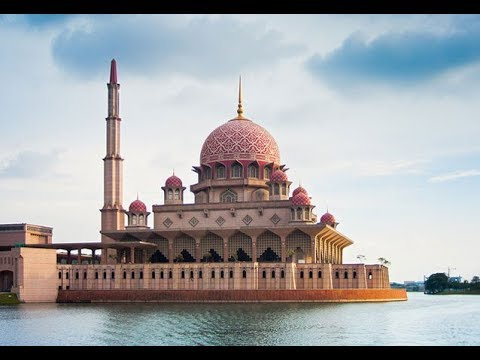Mosque: (49, 56, 399, 303)
